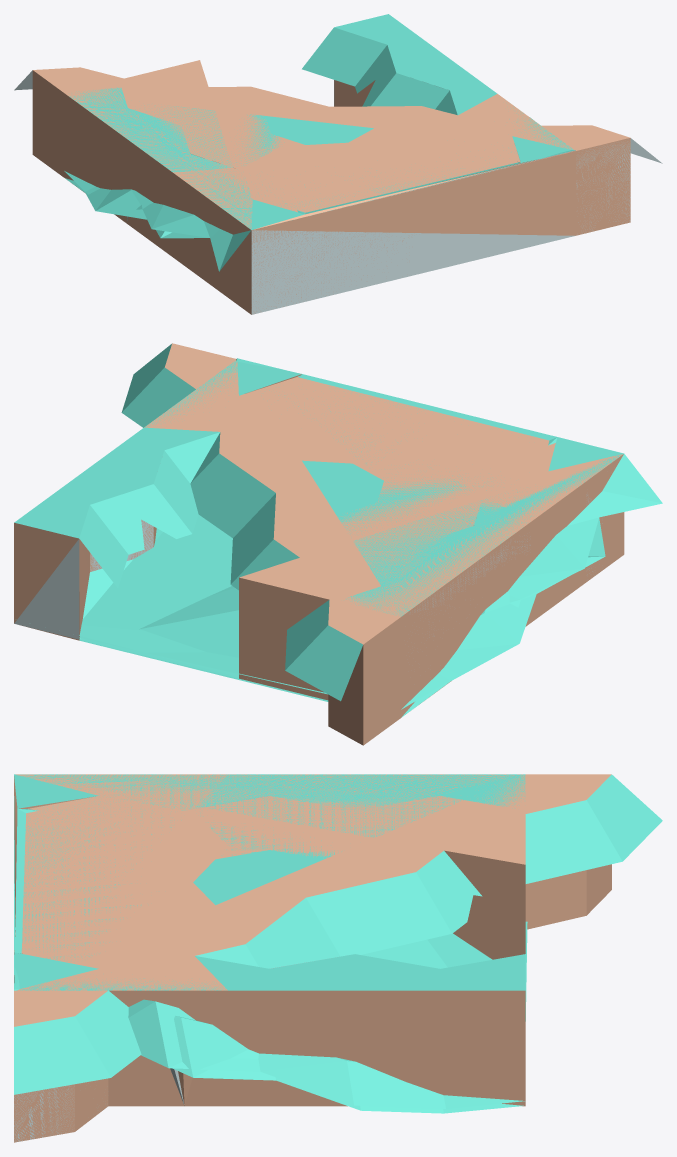
File: cliffs_quarter.glb
3 renders of one model, top to bottom at view 1: azimuth 30°, elevation 25°; view 2: azimuth 150°, elevation 25°; view 3: azimuth 270°, elevation 25°, orthographic. The views are drawn at different scales.
Visible parts, largest first — view 1: cliff_blockSlopeWalls_rock, cliff_cornerInnerLarge_rock, cliff_blockDiagonal_rock, cliff_diagonal_rock, cliff_blockSlope_stone, cliff_cornerInner_rock, cliff_cornerLarge_rock, cliff_blockSlope_rock, cliff_large_rock, cliff_topDiagonal_stone, cliff_corner_rock; view 2: cliff_cornerInnerLarge_rock, cliff_blockSlopeWalls_rock, cliff_blockDiagonal_rock, cliff_diagonal_rock, cliff_blockSlope_stone, cliff_topDiagonal_rock, cliff_cornerInner_rock, cliff_large_rock, cliff_blockSlope_rock, cliff_blockSlopeWalls_stone, cliff_cornerLarge_rock; view 3: cliff_blockSlopeWalls_rock, cliff_cornerInnerLarge_rock, cliff_topDiagonal_rock, cliff_diagonal_rock, cliff_large_rock, cliff_blockSlope_stone, cliff_blockDiagonal_rock, cliff_cornerInner_rock, cliff_blockSlope_rock, cliff_cornerLarge_rock, cliff_topDiagonal_stone.
Part boxes in pixels (x1,y1,x2,y2): cliff_blockSlopeWalls_rock: (64, 14, 573, 314); cliff_cornerInnerLarge_rock: (77, 60, 572, 228); cliff_blockDiagonal_rock: (64, 93, 575, 313); cliff_diagonal_rock: (32, 67, 630, 235); cliff_blockSlope_stone: (65, 117, 575, 314); cliff_cornerInner_rock: (64, 87, 572, 231); cliff_cornerLarge_rock: (174, 162, 380, 313); cliff_blockSlope_rock: (64, 150, 575, 271); cliff_large_rock: (183, 126, 518, 221); cliff_topDiagonal_stone: (14, 70, 662, 233); cliff_corner_rock: (220, 210, 298, 312); cliff_cornerInnerLarge_rock: (144, 361, 621, 700); cliff_blockSlopeWalls_rock: (14, 360, 623, 717); cliff_blockDiagonal_rock: (269, 390, 624, 687); cliff_diagonal_rock: (165, 343, 400, 745); cliff_blockSlope_stone: (79, 358, 605, 717); cliff_topDiagonal_rock: (121, 344, 362, 701); cliff_cornerInner_rock: (219, 361, 622, 691); cliff_large_rock: (194, 373, 619, 562); cliff_blockSlope_rock: (79, 454, 662, 709); cliff_blockSlopeWalls_stone: (14, 520, 238, 678); cliff_cornerLarge_rock: (535, 455, 622, 555); cliff_blockSlopeWalls_rock: (14, 774, 525, 1106); cliff_cornerInnerLarge_rock: (18, 774, 525, 1106); cliff_topDiagonal_rock: (14, 774, 662, 1094); cliff_diagonal_rock: (14, 774, 611, 1142); cliff_large_rock: (22, 774, 227, 961); cliff_blockSlope_stone: (14, 796, 524, 1108); cliff_blockDiagonal_rock: (22, 774, 520, 962); cliff_cornerInner_rock: (15, 774, 519, 990); cliff_blockSlope_rock: (14, 891, 527, 1113); cliff_cornerLarge_rock: (19, 774, 227, 860); cliff_topDiagonal_stone: (14, 1083, 88, 1142).
Bounding box in the file's own units: 1.38 × 0.2575 × 1.27.
